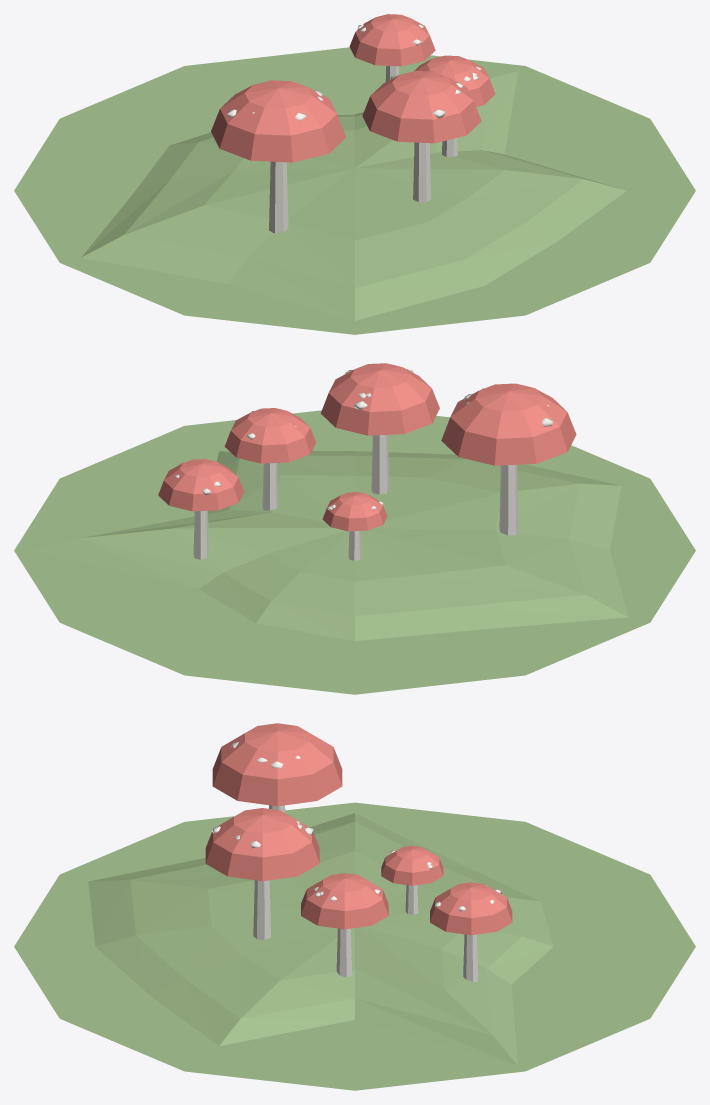
Rendered from mushroom_group.glb.
3 renders of one model, top to bottom at view 1: azimuth 30°, elevation 25°; view 2: azimuth 150°, elevation 25°; view 3: azimuth 270°, elevation 25°, orthographic.
Visible parts, largest first — view 1: mushroom-group; view 2: mushroom-group; view 3: mushroom-group.
Part boxes in pixels (left/top/right/bottom): mushroom-group: left=14, top=14, right=695, bottom=334; mushroom-group: left=14, top=363, right=695, bottom=694; mushroom-group: left=14, top=723, right=695, bottom=1090.
Size of the model in its own units: 1.35 by 0.3479 by 1.35.
